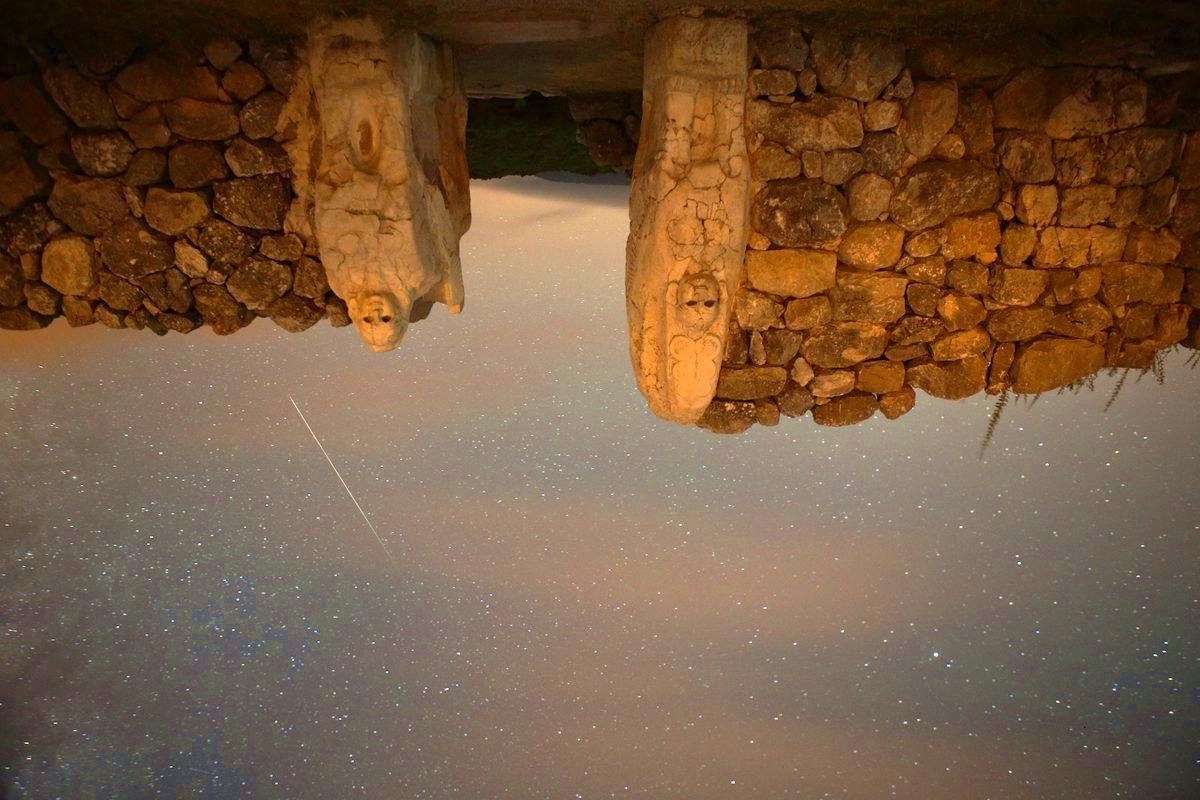meteorite: (260, 396, 414, 560)
